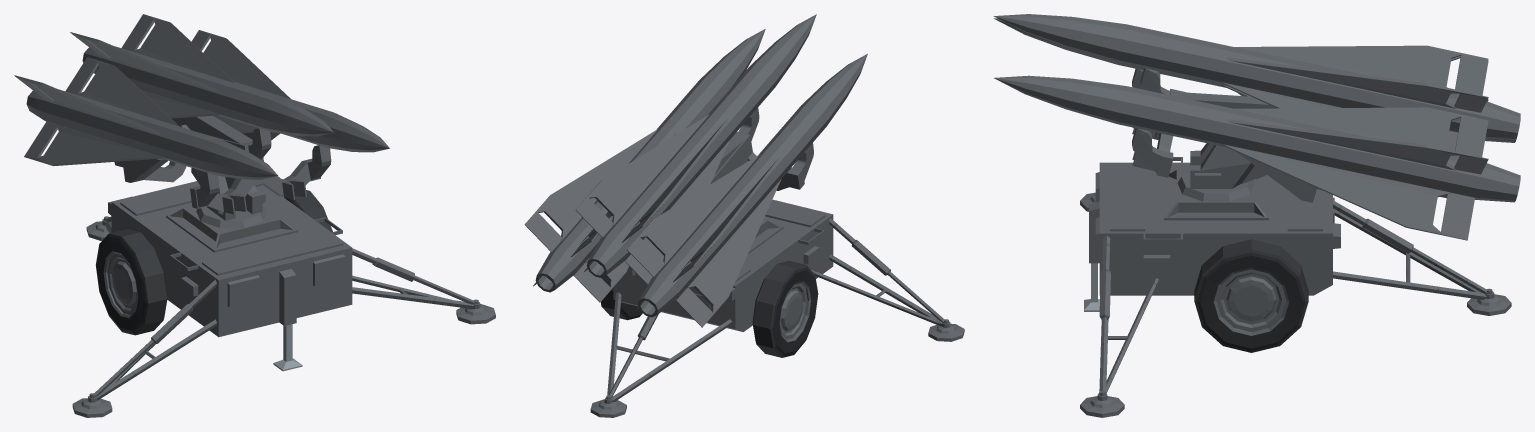
The model's file is SM_Prop_Missle_Launcher_01.fbx.
The picture shows the model from 3 angles, left to right: view 1: azimuth 30°, elevation 25°; view 2: azimuth 150°, elevation 25°; view 3: azimuth 270°, elevation 25°; orthographic projection. The views are drawn at different scales.
Parts seen in each view (by area): view 1: SM_Prop_Missle_Launcher_01, pasted__blinn3 (×3), SM_Prop_Missle_Launcher_01_Top, SM_Prop_Missle_Launcher_01_Missle_1, SM_Prop_Missle_Launcher_01_Missle_2, pasted__blinn5 (×2), pasted__blinn2 (×2), SM_Prop_Missle_Launcher_01_Missle_3; view 2: SM_Prop_Missle_Launcher_01, pasted__blinn3 (×3), SM_Prop_Missle_Launcher_01_Missle_1, SM_Prop_Missle_Launcher_01_Missle_2, SM_Prop_Missle_Launcher_01_Missle_3, pasted__blinn5 (×3), SM_Prop_Missle_Launcher_01_Top, pasted__blinn2 (×2); view 3: SM_Prop_Missle_Launcher_01, SM_Prop_Missle_Launcher_01_Missle_3, SM_Prop_Missle_Launcher_01_Missle_2, pasted__blinn2 (×2), pasted__blinn4 (×2), pasted__blinn3 (×2), SM_Prop_Missle_Launcher_01_Top, SM_Prop_Missle_Launcher_01_Missle_1.
Part boxes in pixels (<box>): SM_Prop_Missle_Launcher_01: <box>72,181,495,417</box>; pasted__blinn3 (×3): <box>65,14,290,126</box>; SM_Prop_Missle_Launcher_01_Top: <box>114,115,331,220</box>; SM_Prop_Missle_Launcher_01_Missle_1: <box>26,89,277,179</box>; SM_Prop_Missle_Launcher_01_Missle_2: <box>82,46,333,136</box>; pasted__blinn5 (×2): <box>24,90,219,166</box>; pasted__blinn2 (×2): <box>14,32,216,134</box>; SM_Prop_Missle_Launcher_01_Missle_3: <box>234,81,389,152</box>; SM_Prop_Missle_Launcher_01: <box>590,199,964,417</box>; pasted__blinn3 (×3): <box>524,114,760,276</box>; SM_Prop_Missle_Launcher_01_Missle_1: <box>638,53,867,317</box>; SM_Prop_Missle_Launcher_01_Missle_2: <box>586,14,816,277</box>; SM_Prop_Missle_Launcher_01_Missle_3: <box>535,29,765,292</box>; pasted__blinn5 (×3): <box>573,139,781,327</box>; SM_Prop_Missle_Launcher_01_Top: <box>710,107,813,190</box>; pasted__blinn2 (×2): <box>622,118,779,281</box>; SM_Prop_Missle_Launcher_01: <box>1080,157,1511,417</box>; SM_Prop_Missle_Launcher_01_Missle_3: <box>994,75,1520,202</box>; SM_Prop_Missle_Launcher_01_Missle_2: <box>993,14,1520,140</box>; pasted__blinn2 (×2): <box>1234,45,1488,157</box>; pasted__blinn4 (×2): <box>1220,82,1474,240</box>; pasted__blinn3 (×2): <box>1227,57,1488,174</box>; SM_Prop_Missle_Launcher_01_Top: <box>1132,68,1320,202</box>; SM_Prop_Missle_Launcher_01_Missle_1: <box>993,18,1520,142</box>.
Size of the model in its own units: 492 by 300 by 493.
